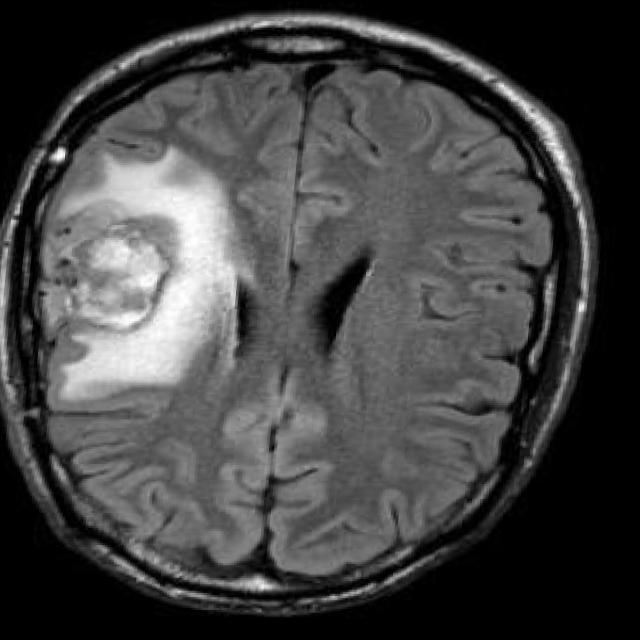Tumor: (65, 223, 181, 329)
